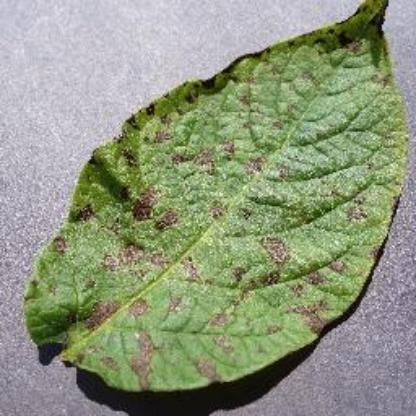Early-Blight: (27, 2, 413, 396)
